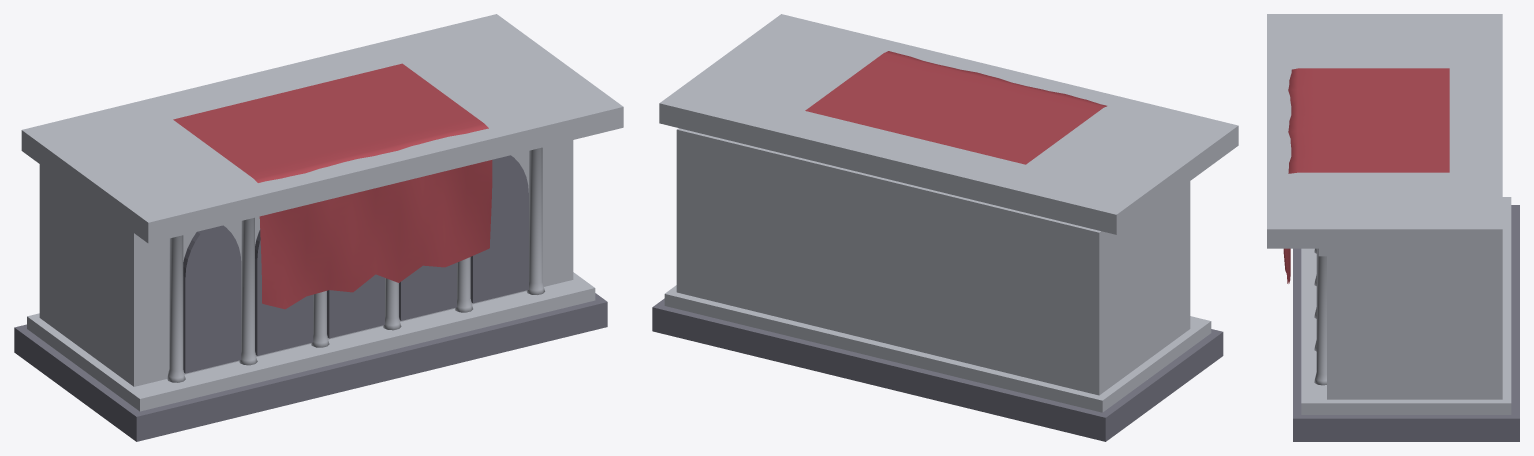
Rendered from Altar.fbx.
The picture shows the model from 3 angles, left to right: view 1: azimuth 30°, elevation 25°; view 2: azimuth 150°, elevation 25°; view 3: azimuth 270°, elevation 25°; orthographic projection. The views are drawn at different scales.
Visible parts, largest first — view 1: Altar; view 2: Altar; view 3: Altar.
Part boxes in pixels (x1,y1,x2,y2): Altar: (14,14,623,441); Altar: (652,14,1238,441); Altar: (1267,14,1519,441).
Bounding box in the file's own units: 2.38 × 1.11 × 1.18.
